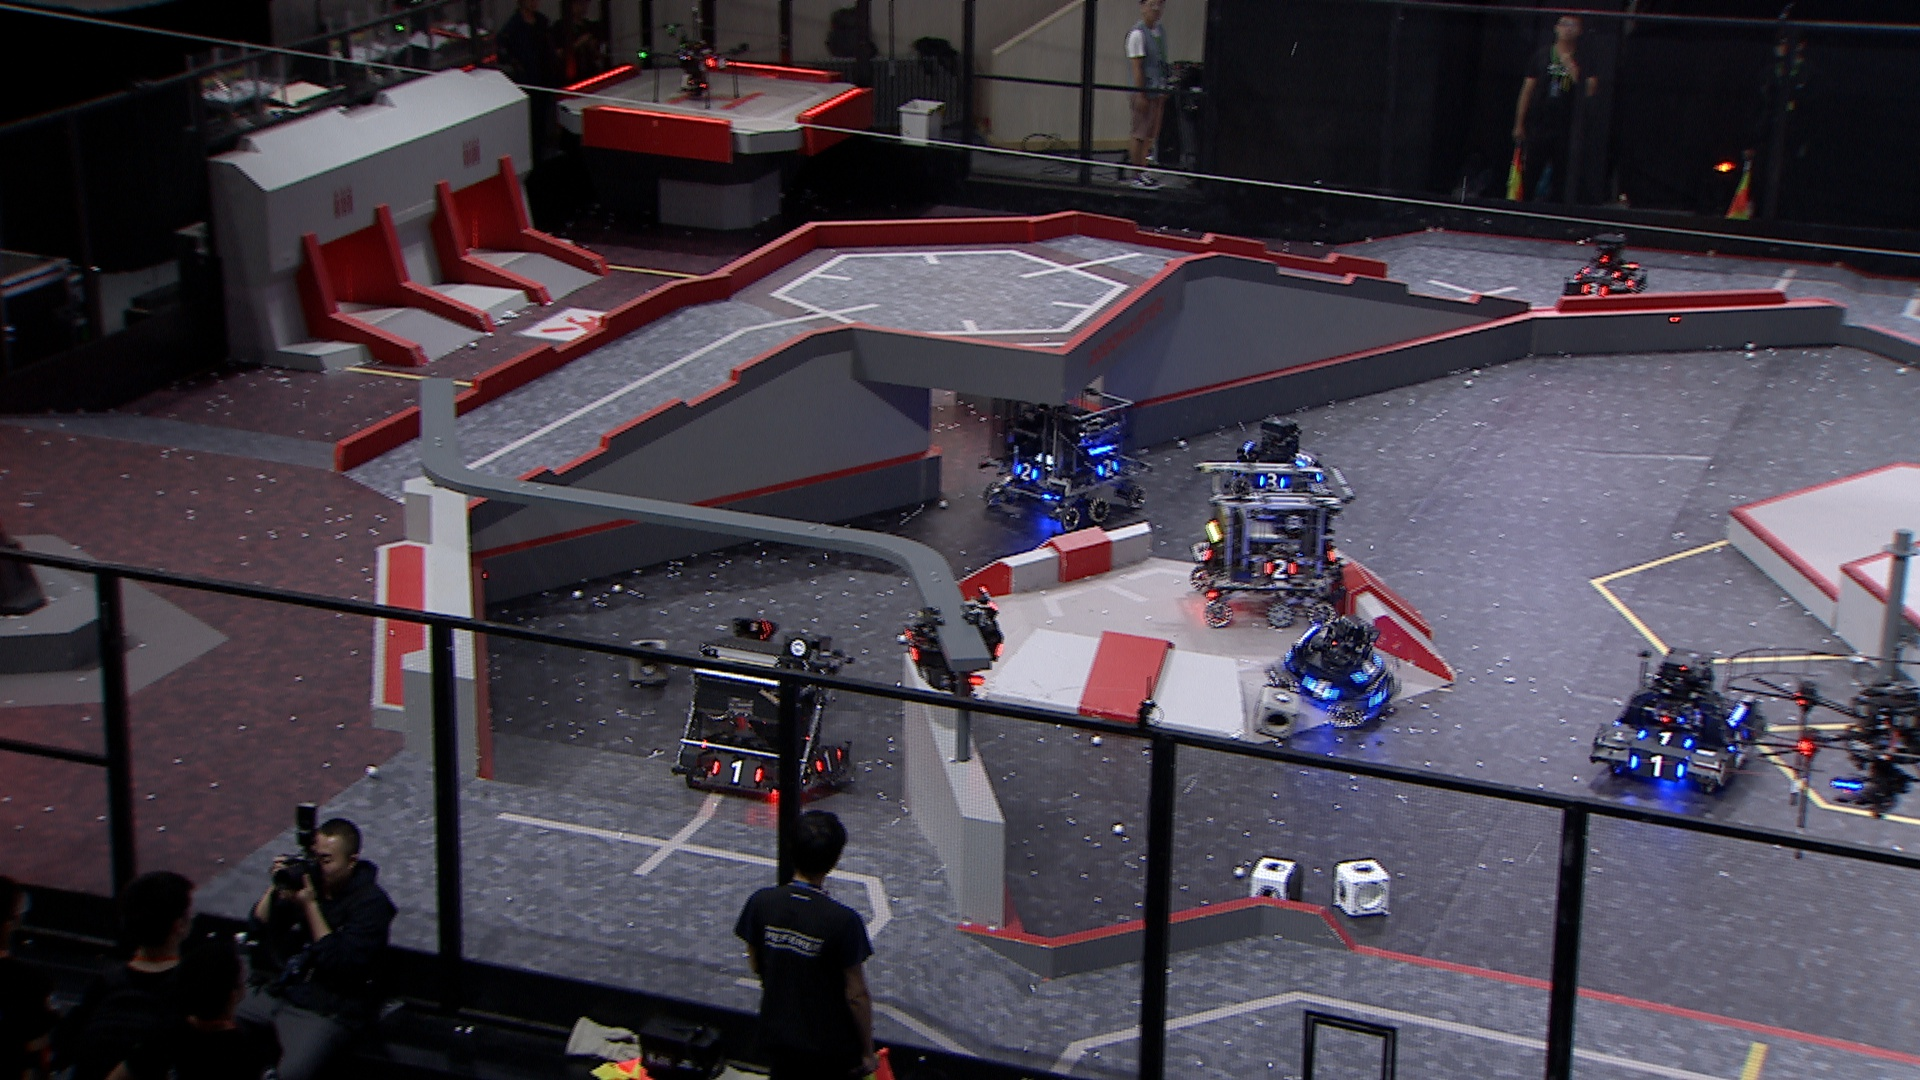armor: (708, 756, 769, 790), (1625, 752, 1684, 783), (1634, 725, 1695, 754), (1349, 651, 1386, 684), (808, 746, 847, 777), (1724, 723, 1756, 757), (1302, 675, 1338, 703), (899, 624, 923, 662), (1259, 556, 1298, 580), (1011, 458, 1040, 481), (1578, 262, 1618, 280), (1192, 537, 1216, 564), (1578, 281, 1611, 301), (1092, 458, 1121, 480), (1258, 472, 1287, 493), (1292, 448, 1316, 469)
car: (670, 622, 858, 800), (1592, 642, 1768, 790), (1192, 447, 1338, 622), (982, 386, 1147, 527), (1265, 607, 1400, 727), (1224, 418, 1349, 520), (1557, 228, 1647, 301)
watcher: (898, 585, 1007, 694)
